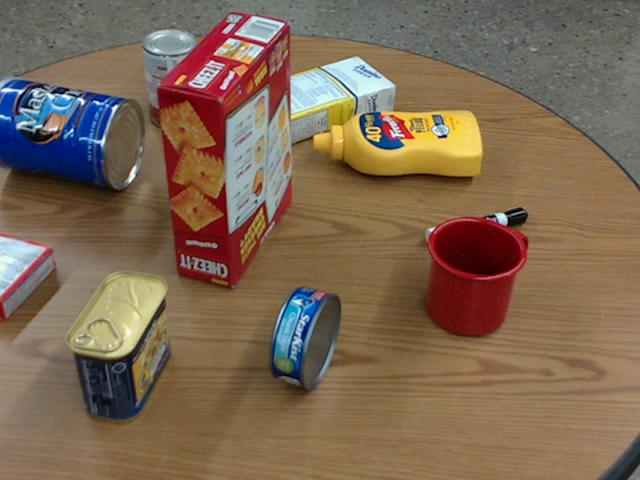cracker_box: (155, 14, 289, 287)
gelatin_box: (0, 233, 56, 320)
large_marker: (425, 207, 527, 244)
master_chef_can: (0, 78, 142, 189)
mug: (426, 215, 528, 335)
mustard_bottle: (312, 112, 482, 174)
potted_meat_can: (67, 270, 169, 423)
sugar_box: (242, 54, 396, 147)
tomato_soup_can: (140, 28, 200, 128)
tuna_fish_can: (268, 286, 342, 389)
